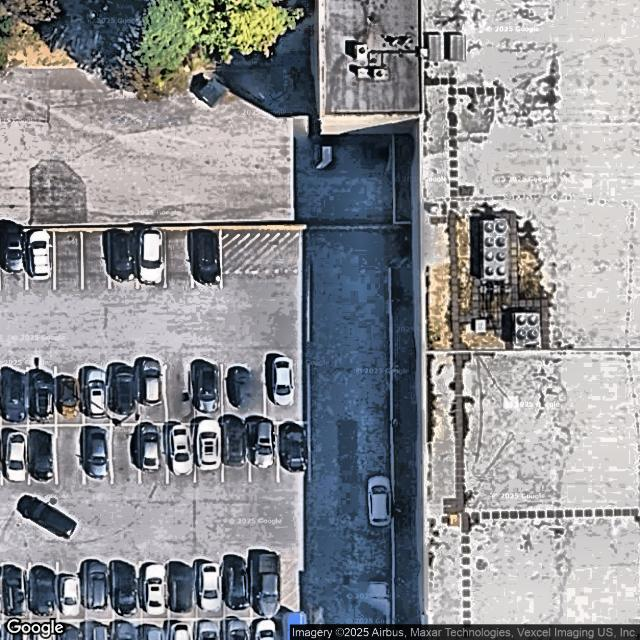car: (191, 229, 220, 283), (258, 551, 281, 617), (250, 415, 276, 469), (279, 421, 306, 473), (112, 561, 137, 615), (108, 233, 136, 281), (193, 363, 219, 413), (85, 427, 109, 480), (140, 230, 163, 285), (32, 563, 55, 618), (171, 562, 195, 613), (2, 371, 25, 422), (144, 563, 167, 614), (169, 425, 192, 475), (114, 364, 136, 415), (3, 565, 24, 618), (86, 369, 108, 419), (200, 563, 222, 613), (229, 558, 251, 608), (29, 231, 51, 280), (274, 356, 294, 408), (224, 419, 246, 466), (87, 564, 109, 611), (140, 360, 162, 404), (33, 371, 53, 418), (199, 420, 218, 469), (140, 426, 161, 470), (9, 431, 27, 481), (35, 432, 53, 480), (3, 233, 25, 272), (61, 573, 80, 615), (232, 365, 250, 407), (60, 375, 79, 412), (224, 619, 249, 638), (254, 621, 278, 640), (3, 621, 26, 639), (171, 621, 193, 639), (142, 623, 165, 640), (60, 622, 81, 640), (197, 622, 219, 638), (88, 621, 108, 638), (34, 622, 52, 640), (116, 622, 135, 638)
lot_boundary: (0, 226, 306, 639)
objects: (222, 229, 301, 277), (281, 561, 299, 611), (282, 613, 307, 639)
stall: (224, 366, 265, 424), (266, 366, 306, 423), (111, 425, 140, 483), (83, 425, 112, 483), (54, 232, 83, 289), (81, 231, 110, 288), (27, 232, 56, 289), (110, 367, 139, 424), (167, 424, 196, 481), (139, 424, 168, 481), (277, 424, 306, 481), (138, 365, 166, 423), (55, 367, 83, 425), (84, 367, 112, 425), (166, 365, 194, 423), (27, 425, 55, 483), (109, 230, 137, 287), (138, 231, 166, 288), (165, 230, 193, 287), (192, 230, 220, 287), (28, 369, 56, 426), (56, 424, 84, 481), (195, 366, 223, 423), (195, 424, 223, 481), (0, 368, 28, 425), (250, 424, 278, 481), (223, 424, 251, 481), (85, 560, 113, 617), (141, 560, 169, 617), (252, 560, 280, 617), (224, 560, 252, 617), (0, 563, 28, 620), (58, 561, 85, 619), (114, 560, 141, 617), (169, 560, 196, 617), (196, 561, 223, 618), (29, 563, 56, 620), (2, 233, 28, 289), (0, 425, 26, 481), (196, 618, 225, 640), (254, 618, 282, 640), (169, 618, 197, 640), (140, 618, 168, 640), (112, 618, 140, 640), (225, 618, 252, 640), (1, 620, 30, 640), (85, 620, 114, 640), (58, 618, 84, 640), (28, 620, 56, 640)
